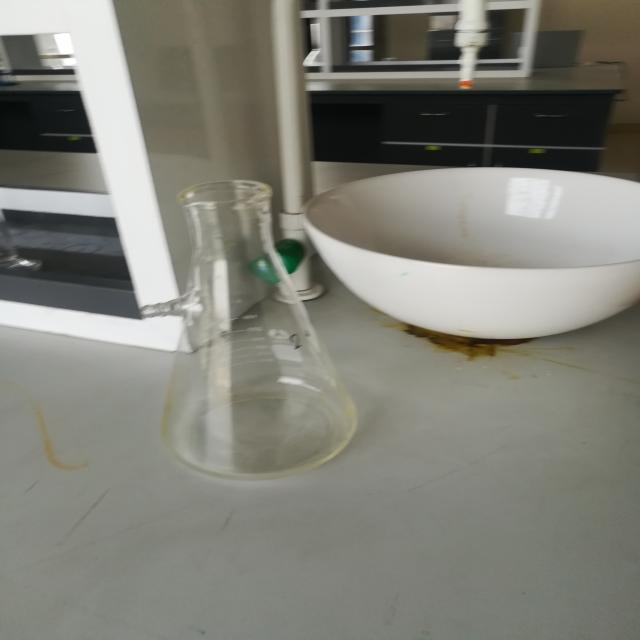Conical_Flask: (78, 178, 421, 498)
